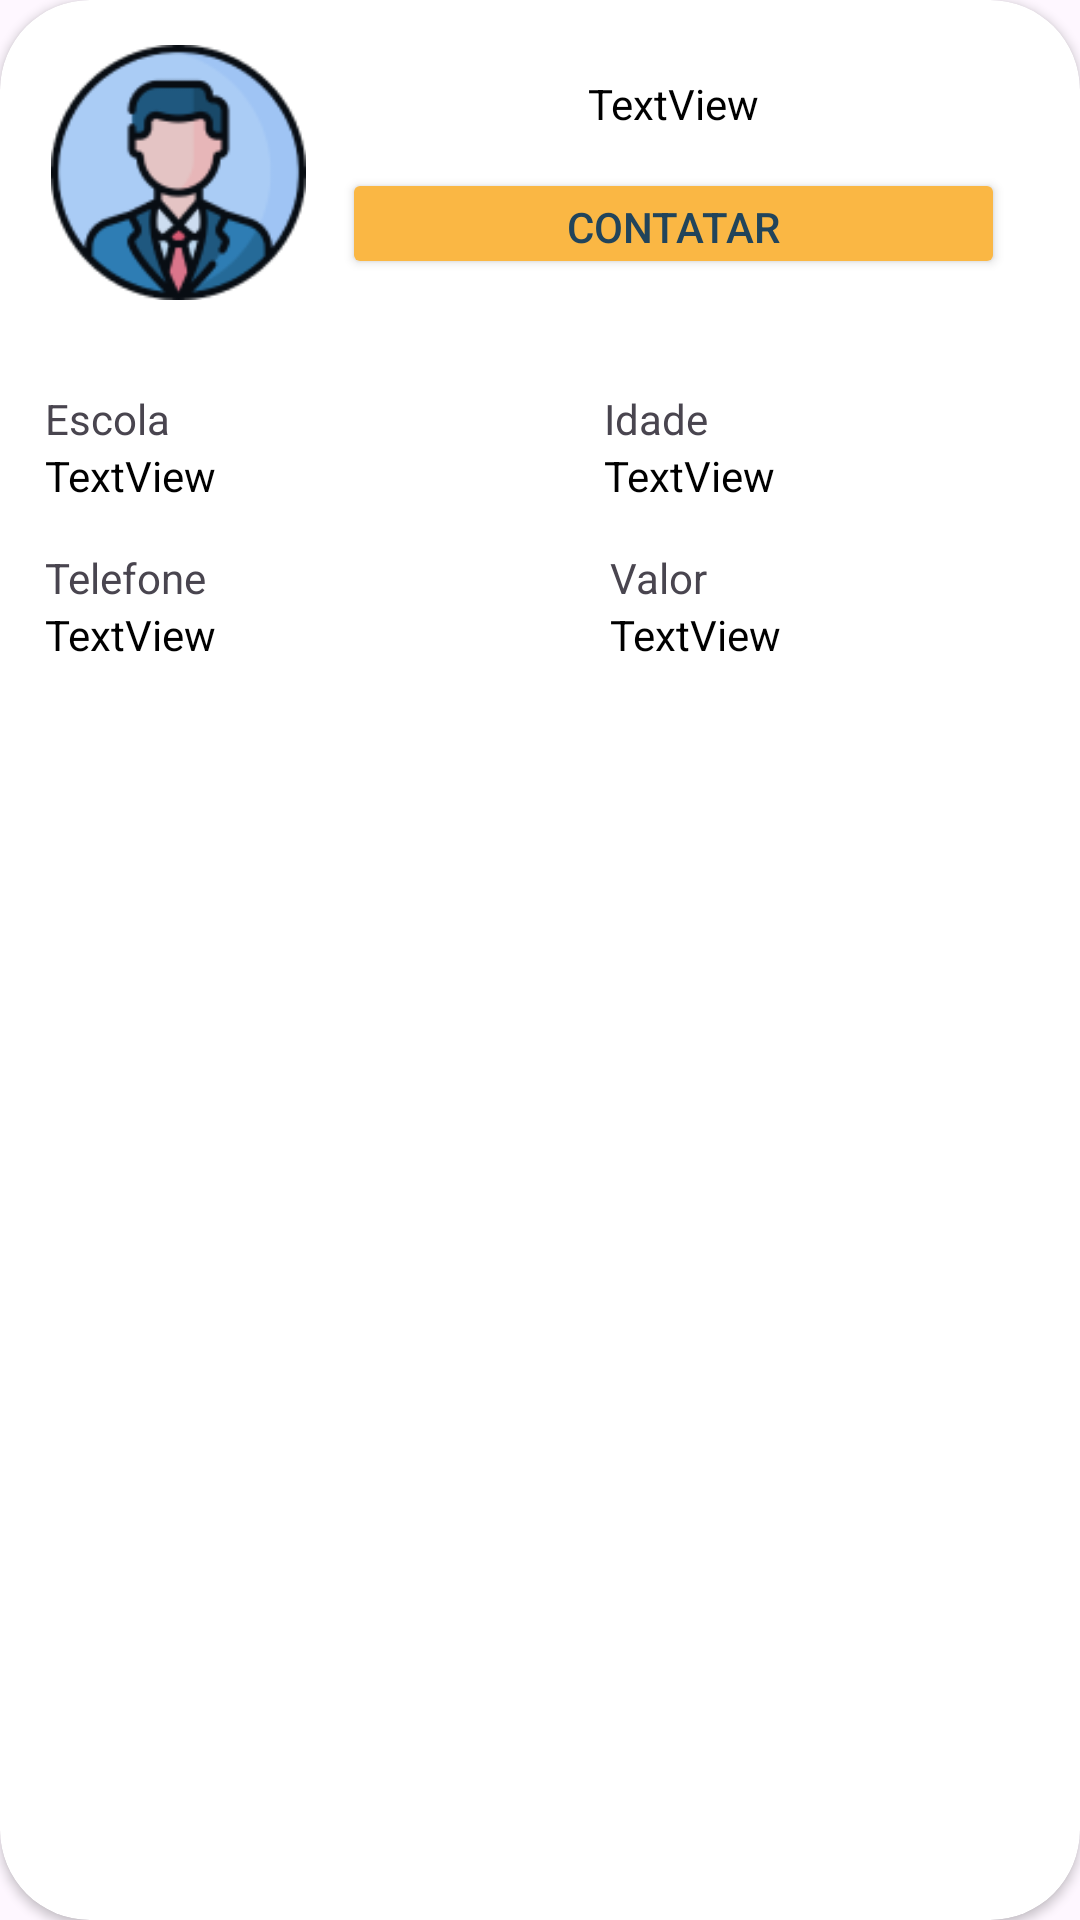

Named icons in this screenshot (1080 × 1920) and their centers, [x,y]:
fotofihlo: [178,172]
